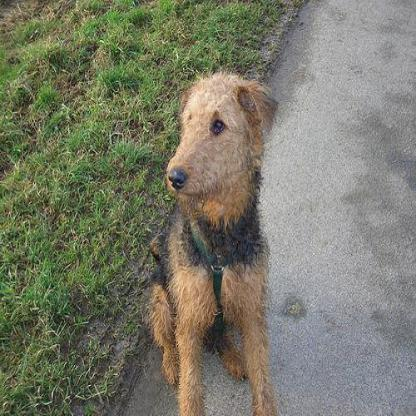dog: (130, 59, 287, 415)
